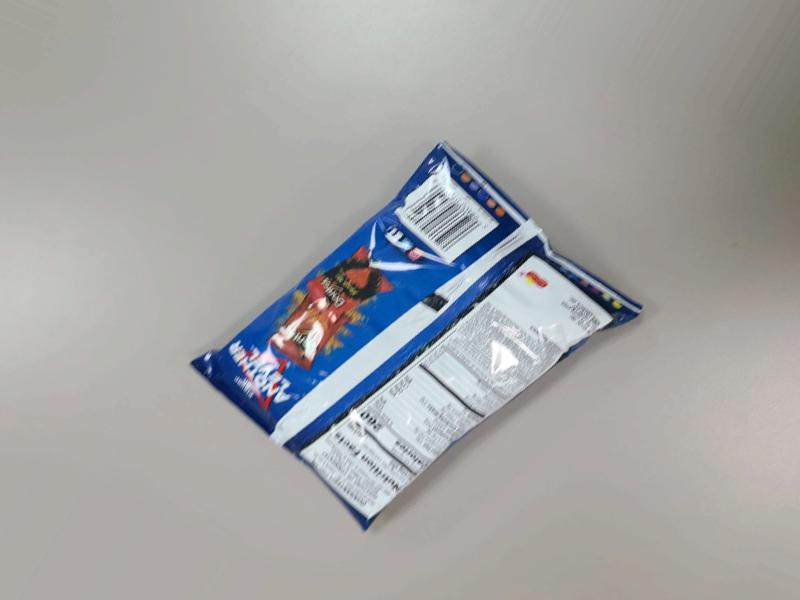doritos: (285, 235, 661, 567)
